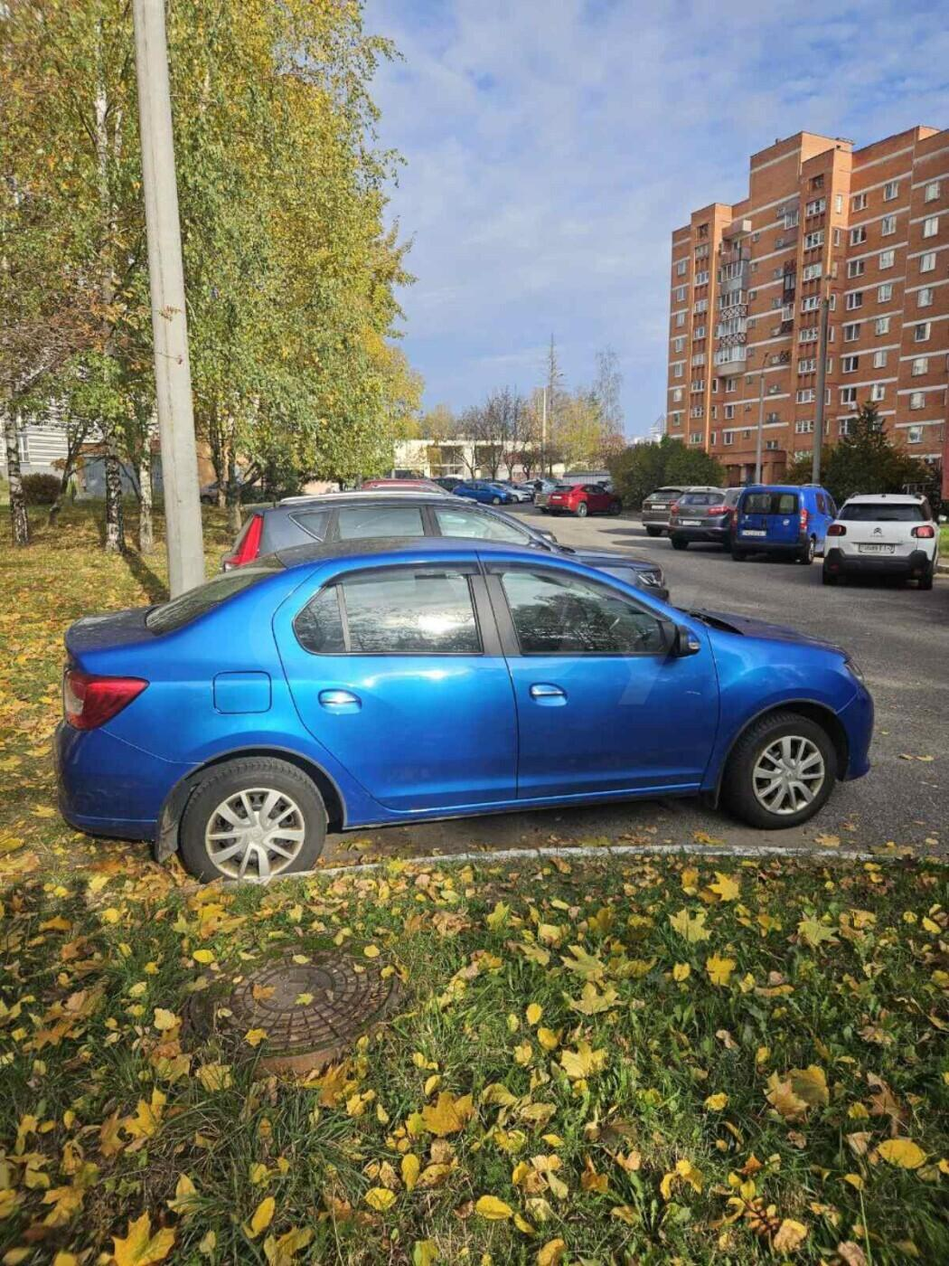Logan_2013-2018: (49, 539, 884, 893)
